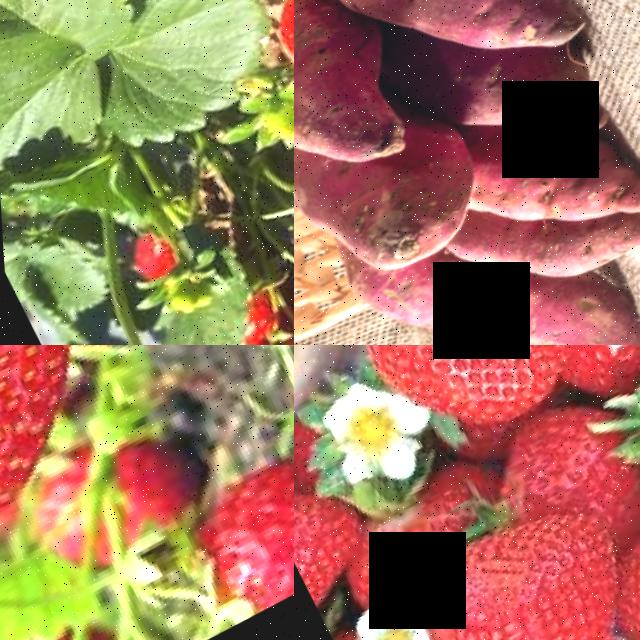strawberry: (386, 481, 640, 640), (323, 345, 613, 474), (151, 431, 294, 640), (0, 345, 88, 625)
sweet potato: (307, 123, 502, 297), (350, 0, 602, 119), (294, 0, 410, 212), (494, 119, 640, 270), (477, 260, 640, 345)
